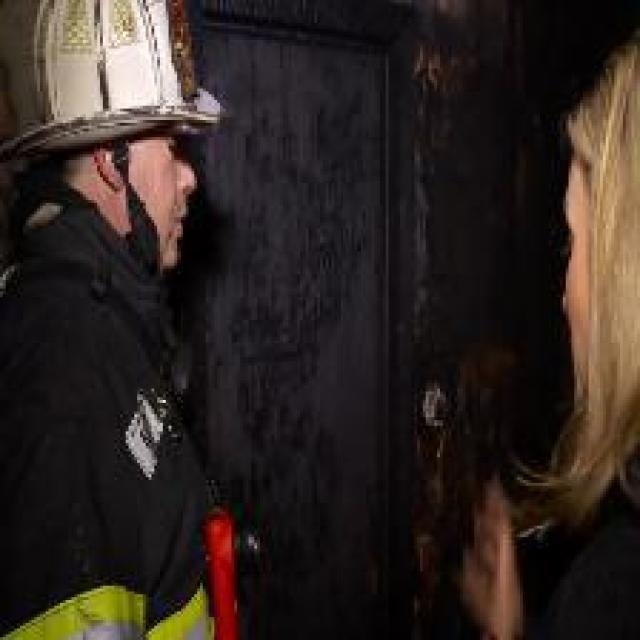other: (29, 582, 188, 630), (198, 501, 249, 634)
